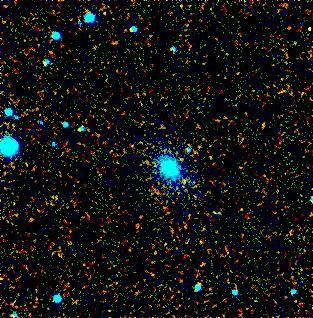star: (292, 14, 313, 44)
